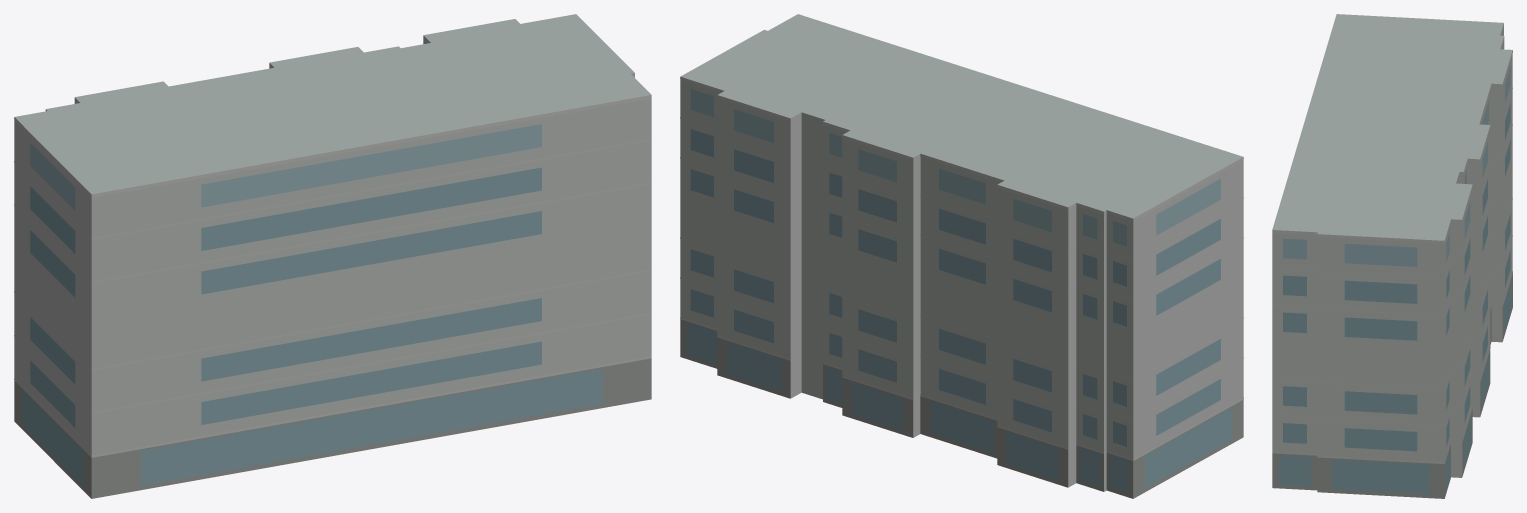
The model's file is survey-upis-33020644.glb.
3 views of the same model, side by side, from view 1: azimuth 30°, elevation 25°; view 2: azimuth 150°, elevation 25°; view 3: azimuth 270°, elevation 25° (orthographic). The views are drawn at different scales.
Parts seen in each view (by area): view 1: survey-upis-33020644.tmp; view 2: survey-upis-33020644.tmp; view 3: survey-upis-33020644.tmp.
Boxes of the visible parts, x1=… form: survey-upis-33020644.tmp: x1=14, y1=14, x2=651, y2=498; survey-upis-33020644.tmp: x1=680, y1=14, x2=1243, y2=498; survey-upis-33020644.tmp: x1=1272, y1=14, x2=1512, y2=498.
Bounding box in the file's own units: 38.66 × 20.5 × 17.34.
